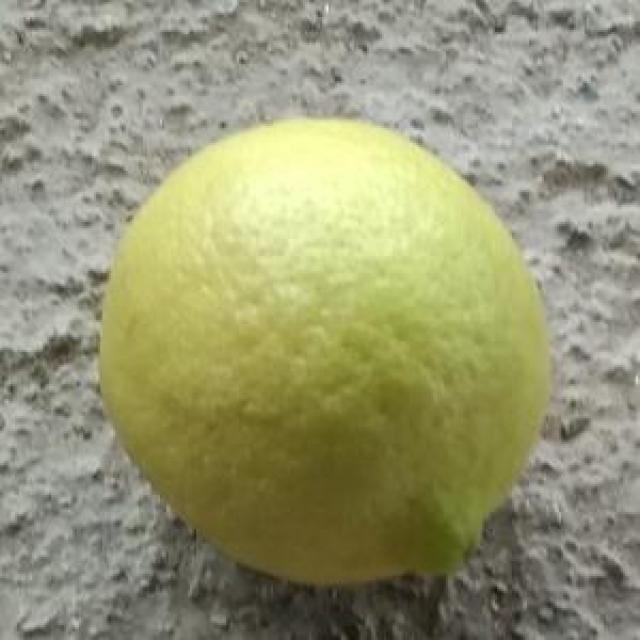lemon: (94, 116, 564, 592)
